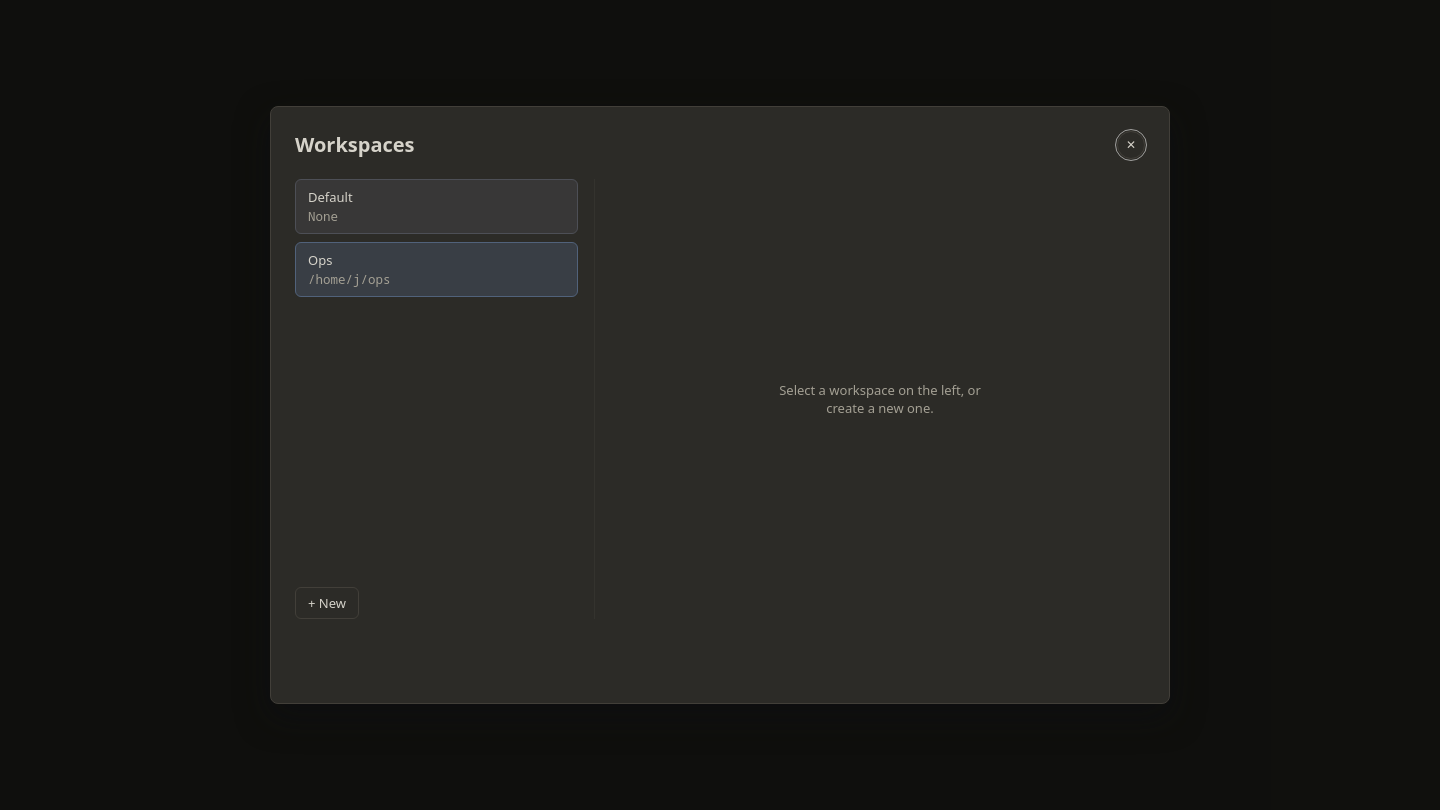
WorkspacesDialog › re-reads templates, shortcuts, tags and rules after a committed delete
The image size is (1440, 810).
Step 1. Click the button with test id "workspace-select-w1" → (349, 280), box [296,243,577,296]
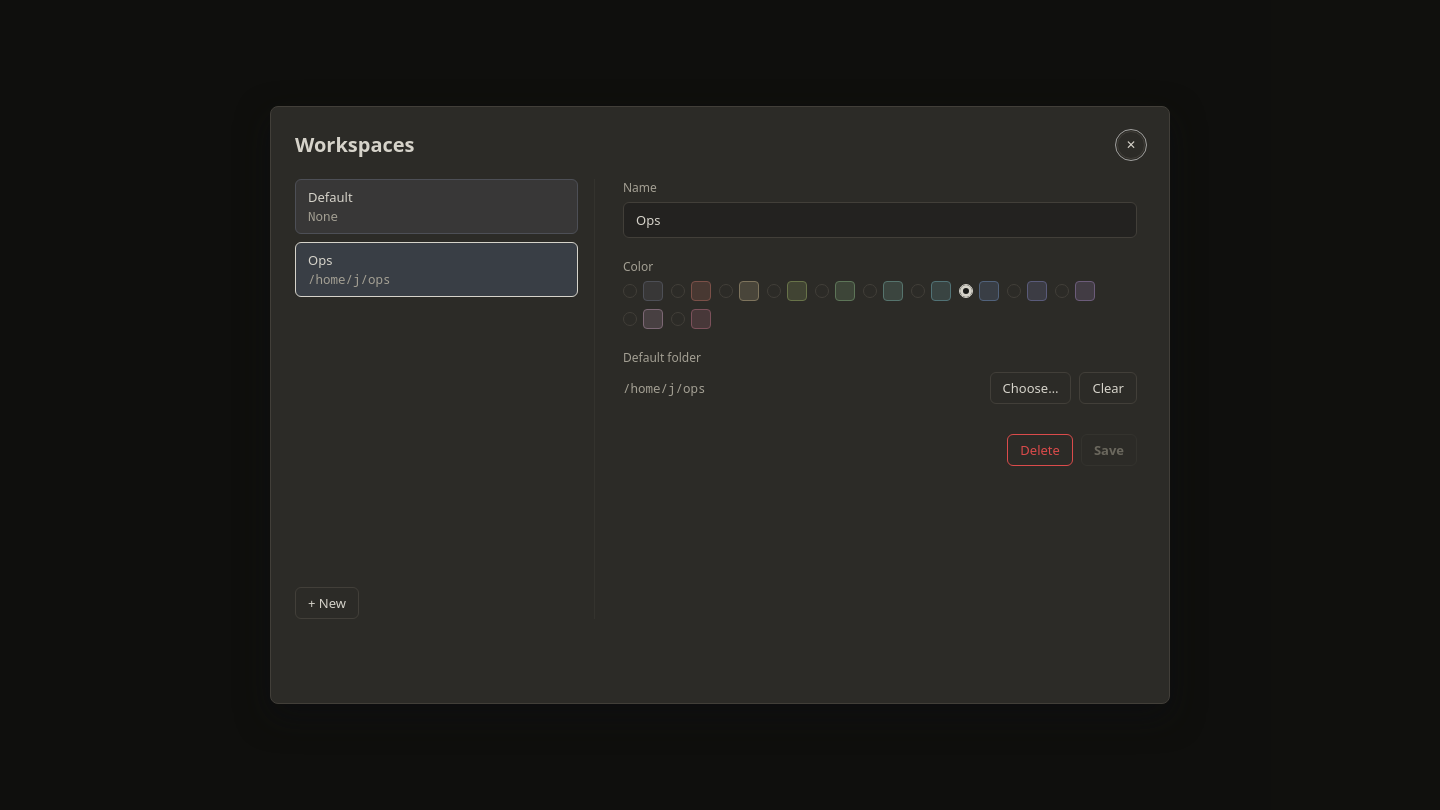
Step 2. Click the button with test id "workspace-delete-w1" → (1040, 450), box [1007,434,1073,466]
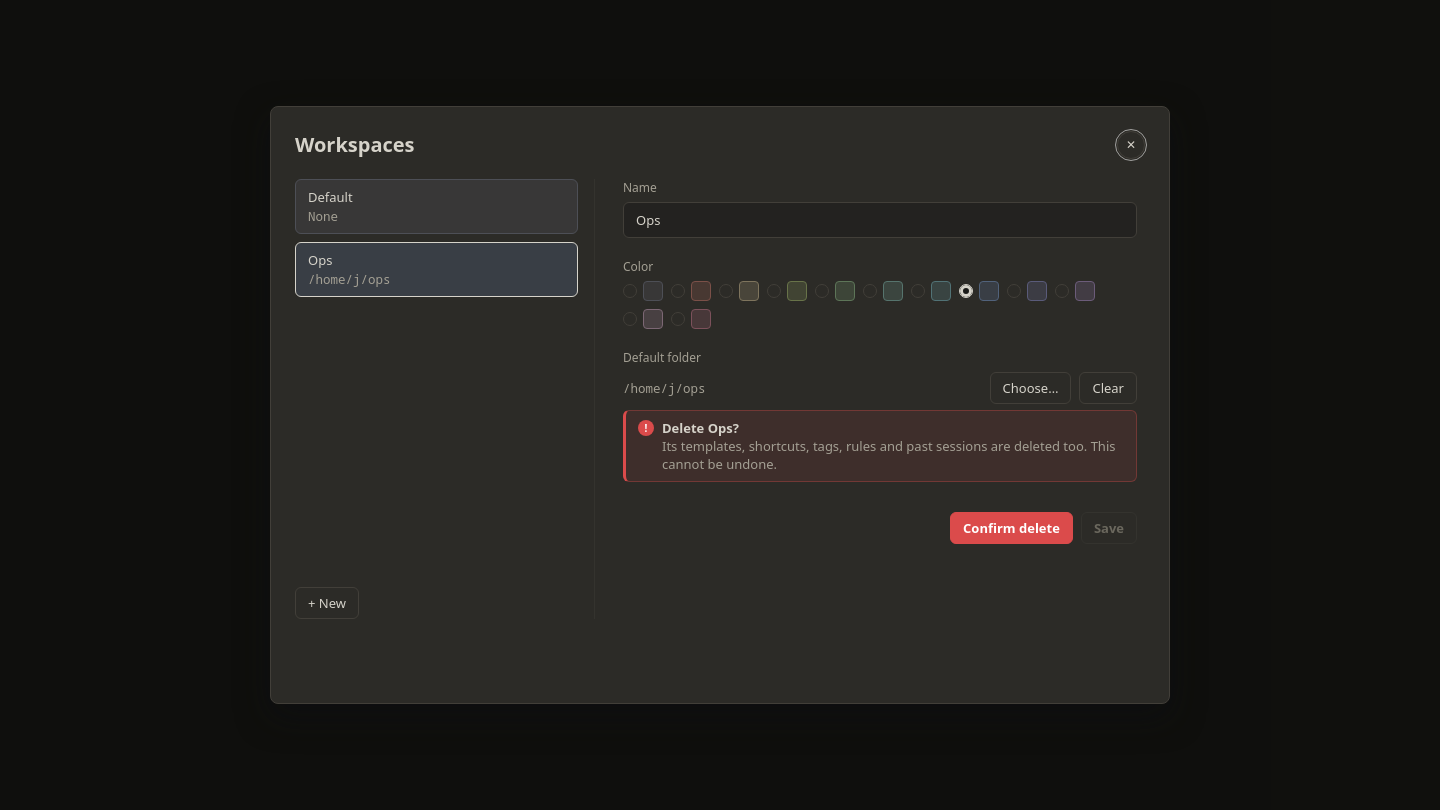
Step 3. Click the button with test id "workspace-delete-w1" → (1012, 528), box [950,512,1073,544]
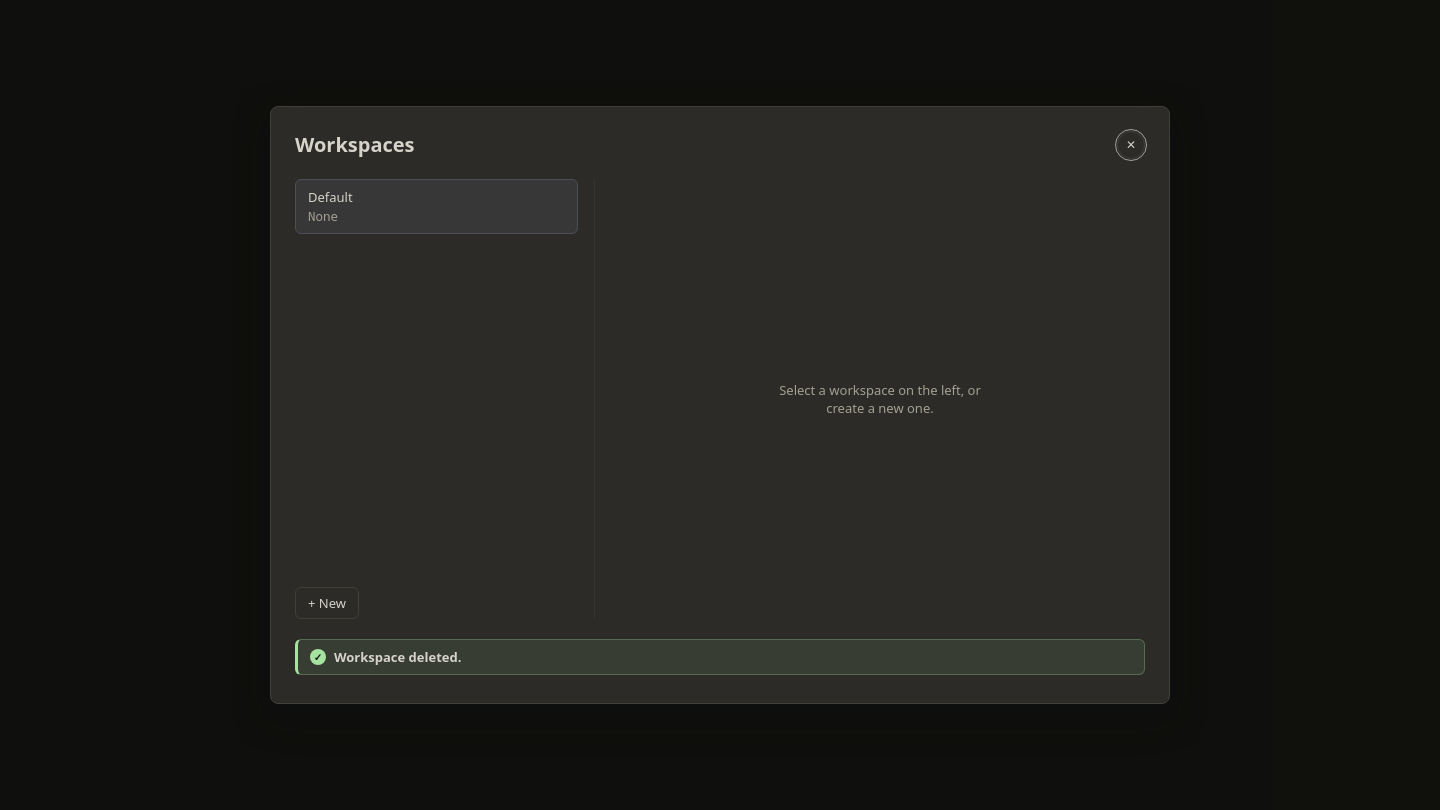
Expected: the element with test id "workspaces-success" reads "Workspace deleted.", [334,648,461,666]
